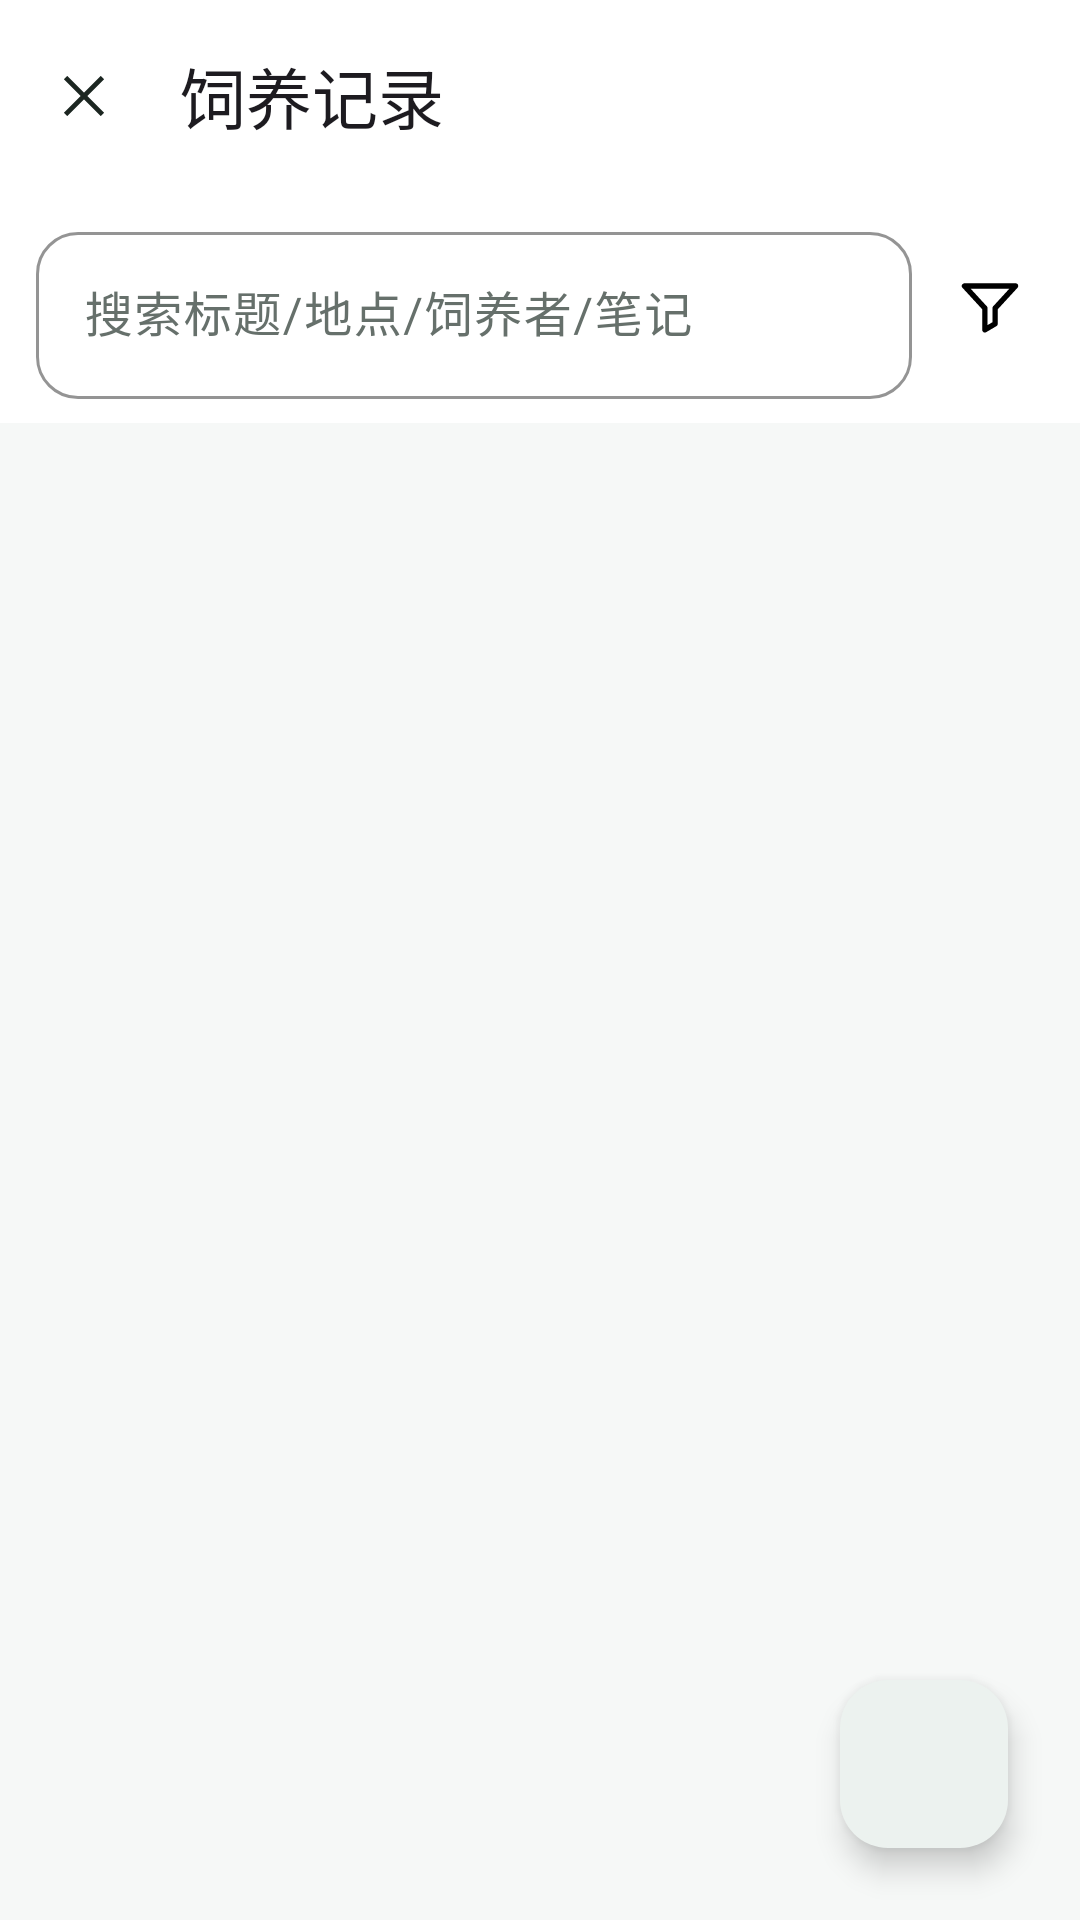

Named icons in this screenshot (1080 x 1920) and their bounding boxes, (x1, y1, x2, y2):
筛选: (961, 283, 1019, 333)
